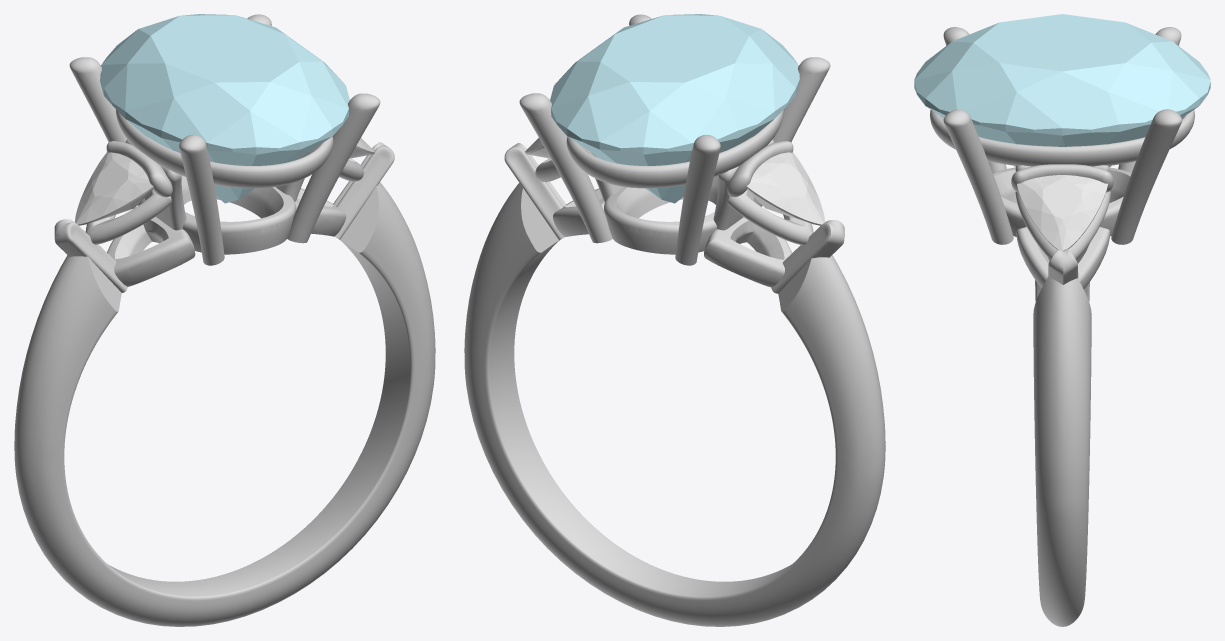
The model's file is SusanPT3stone_blender.glb.
3 renders of one model, left to right at view 1: azimuth 30°, elevation 25°; view 2: azimuth 150°, elevation 25°; view 3: azimuth 270°, elevation 25°, orthographic.
Visible parts, largest first — view 1: Susan PT for 3d model, Susan aqua for 3d model, Susan dia for 3d model.001; view 2: Susan PT for 3d model, Susan aqua for 3d model, Susan dia for 3d model.001; view 3: Susan PT for 3d model, Susan aqua for 3d model, Susan dia for 3d model.
Part boxes in pixels (box(x1,y1,x2,y2)): Susan PT for 3d model: box(14, 14, 435, 626); Susan aqua for 3d model: box(100, 14, 349, 203); Susan dia for 3d model.001: box(75, 152, 153, 225); Susan PT for 3d model: box(464, 14, 885, 626); Susan aqua for 3d model: box(550, 14, 799, 203); Susan dia for 3d model.001: box(746, 152, 824, 225); Susan PT for 3d model: box(930, 27, 1194, 626); Susan aqua for 3d model: box(914, 14, 1210, 167); Susan dia for 3d model: box(1017, 175, 1107, 250).
Size of the model in its own units: 21.76 by 28.61 by 13.68.
